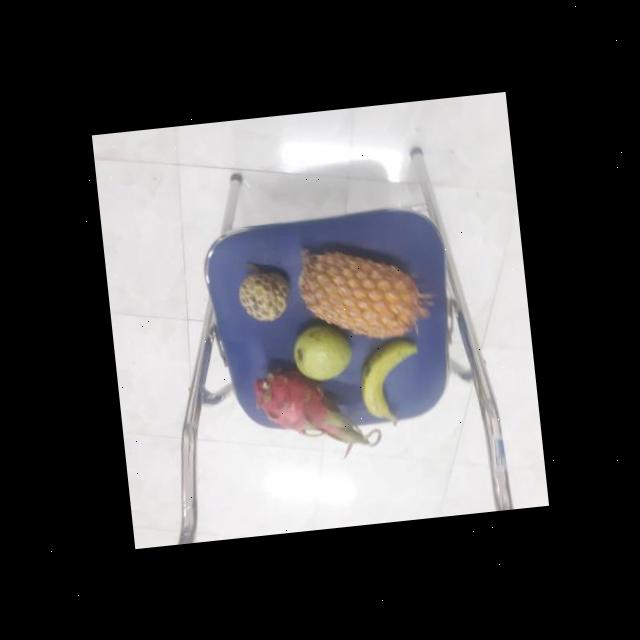Sakya fruit: (238, 264, 296, 322)
banana: (355, 332, 427, 425)
guava: (289, 320, 356, 384)
pineapple: (296, 237, 428, 343)
pitaya: (255, 356, 362, 449)
